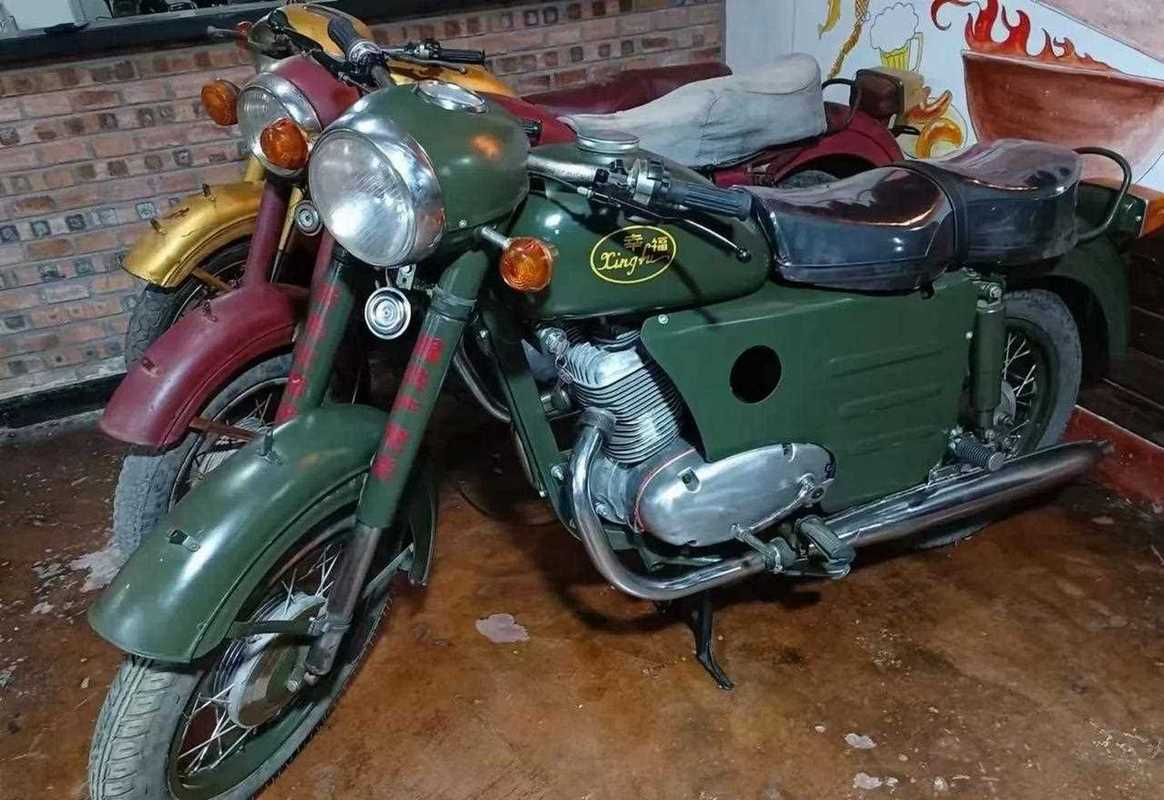摩托车: (84, 137, 1144, 797)
